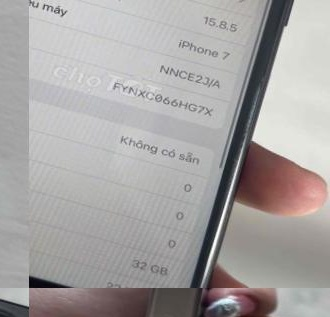scratch: (230, 61, 271, 166)
